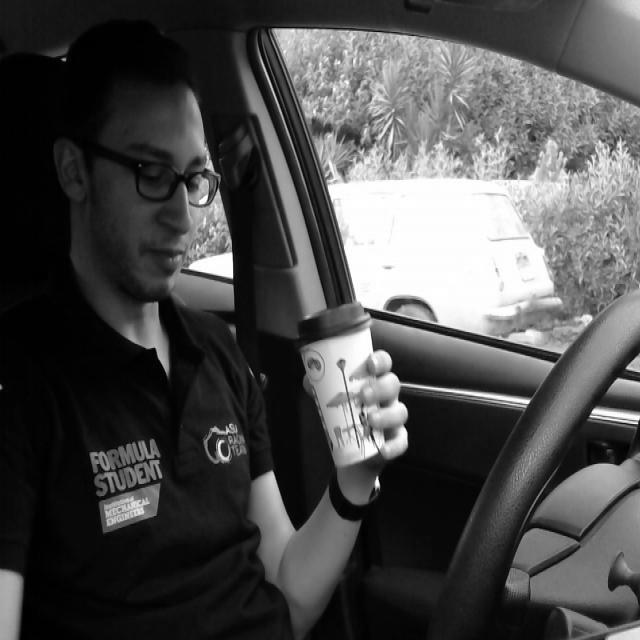Drinking: (296, 301, 402, 468)
